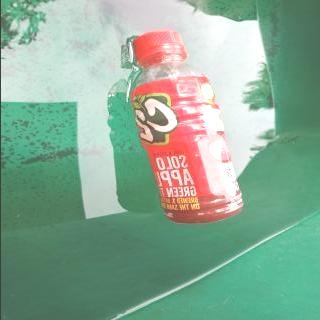bottle: (131, 30, 243, 224)
